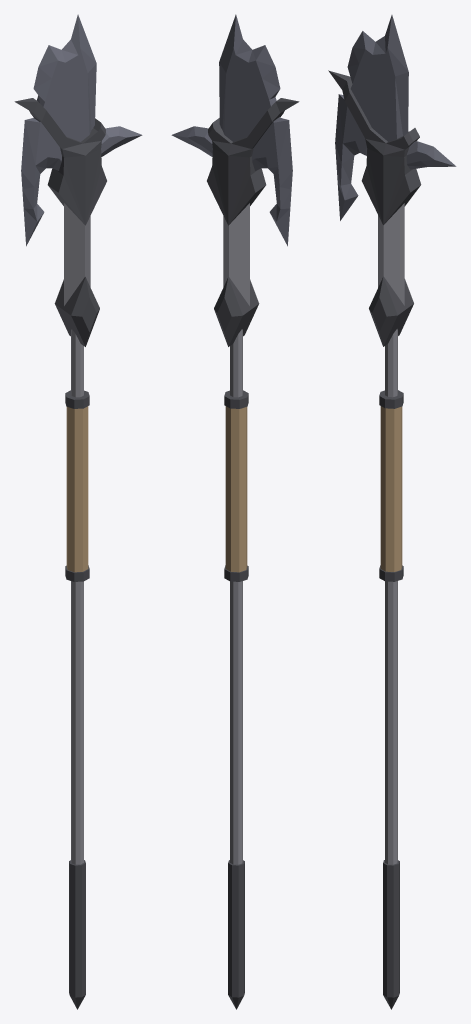
Rendered from Lanca_B08.fbx.
The picture shows the model from 3 angles, left to right: view 1: azimuth 30°, elevation 25°; view 2: azimuth 150°, elevation 25°; view 3: azimuth 330°, elevation 25°; orthographic projection.
Parts seen in each view (by area): view 1: polearm_8; view 2: polearm_8; view 3: polearm_8.
Boxes of the visible parts, left/top/right/bottom form: polearm_8: left=14, top=14, right=142, bottom=1009; polearm_8: left=171, top=14, right=299, bottom=1009; polearm_8: left=328, top=15, right=456, bottom=1009.
Size of the model in its own units: 27.28 by 202 by 8.91.
